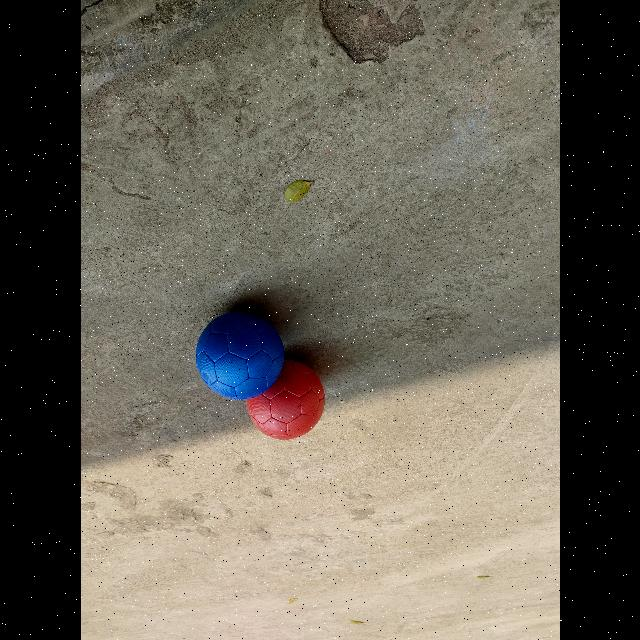B: (195, 312, 284, 400)
R: (246, 360, 324, 440)
